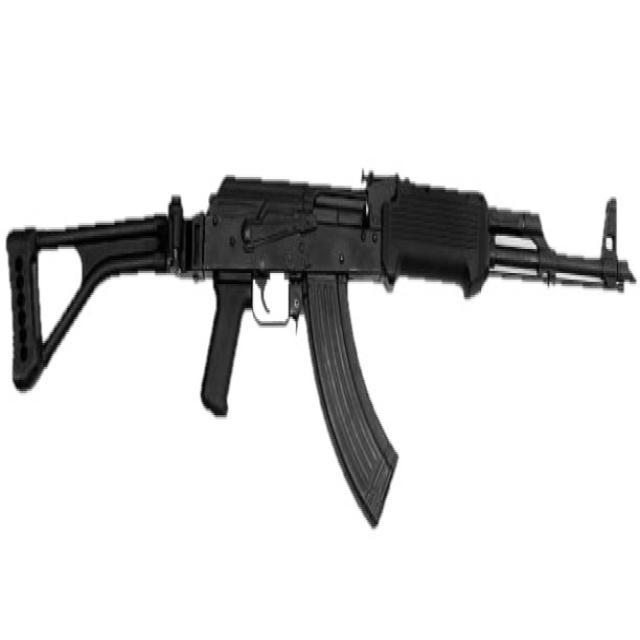rifle: (1, 138, 640, 544)
